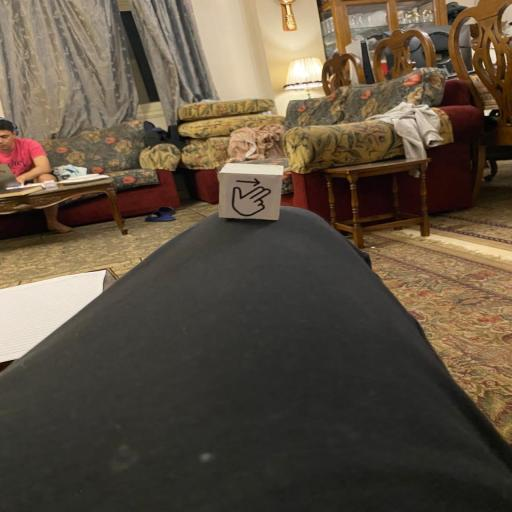RightSwipe: (217, 162, 286, 220)
